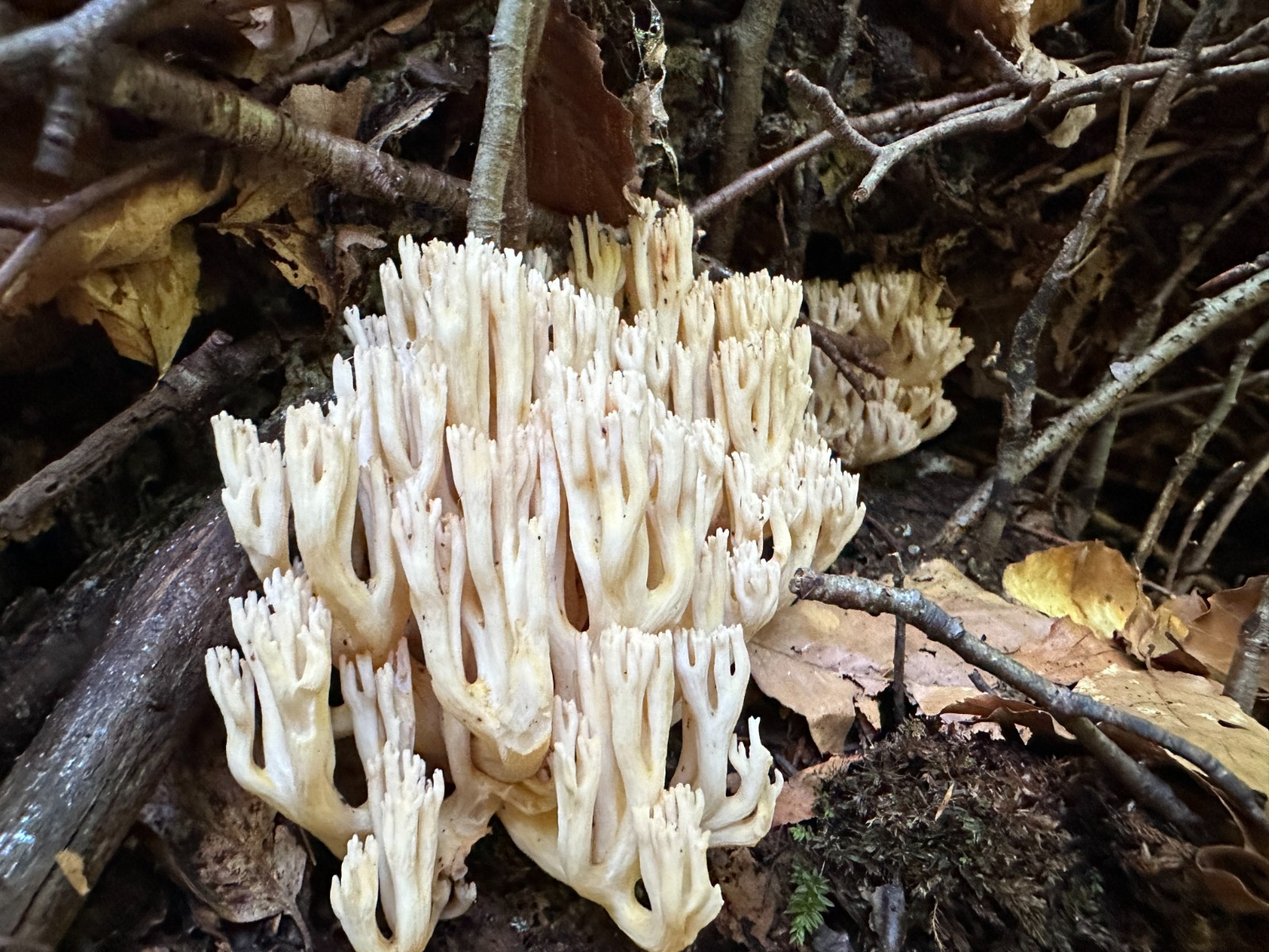coral: (205, 197, 972, 951)
